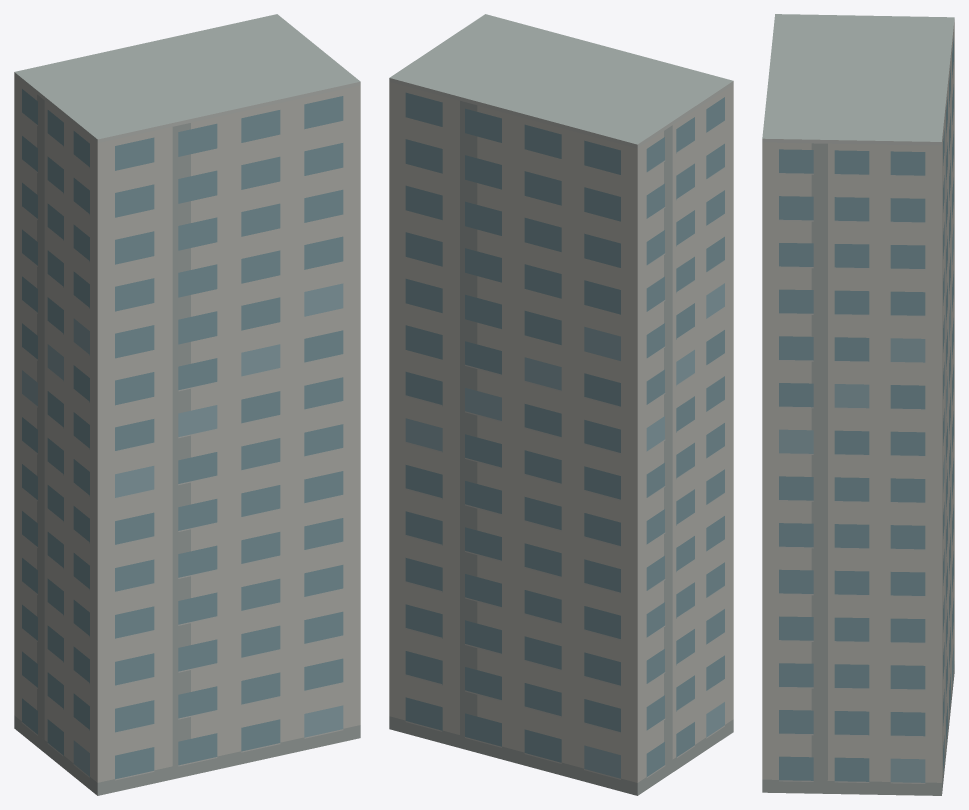
File: residential-fb2a1b72-bf3d-402b-89ff-994e16e1da0f.glb
3 views of the same model, side by side, from view 1: azimuth 30°, elevation 25°; view 2: azimuth 150°, elevation 25°; view 3: azimuth 270°, elevation 25° (orthographic).
Parts seen in each view (by area): view 1: residential-fb2a1b72-bf3d-402b-89ff-994e16e1da0f.tmp; view 2: residential-fb2a1b72-bf3d-402b-89ff-994e16e1da0f.tmp; view 3: residential-fb2a1b72-bf3d-402b-89ff-994e16e1da0f.tmp.
Boxes of the visible parts, bbox=[...] form: residential-fb2a1b72-bf3d-402b-89ff-994e16e1da0f.tmp: bbox=[14, 14, 360, 795]; residential-fb2a1b72-bf3d-402b-89ff-994e16e1da0f.tmp: bbox=[389, 14, 733, 795]; residential-fb2a1b72-bf3d-402b-89ff-994e16e1da0f.tmp: bbox=[762, 14, 954, 795].
Size of the model in its own units: 17.64 by 42 by 11.21.
